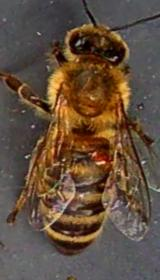varroa_mite: (83, 140, 116, 167)
